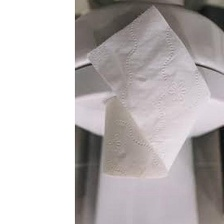tissue: (81, 1, 215, 186)
